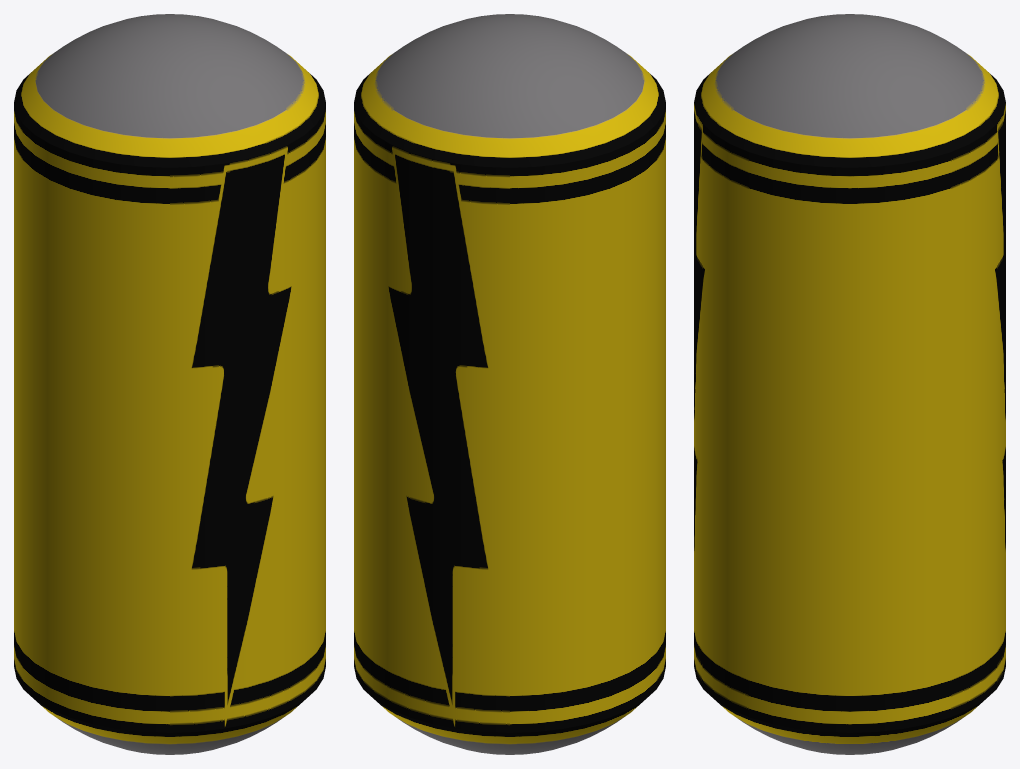
File: pila.obj
3 renders of one model, left to right at view 1: azimuth 30°, elevation 25°; view 2: azimuth 150°, elevation 25°; view 3: azimuth 270°, elevation 25°, orthographic.
Visible parts, largest first — view 1: Cisterna; view 2: Cisterna; view 3: Cisterna.
Boxes of the visible parts, bbox=[...] form: Cisterna: bbox=[14, 14, 325, 754]; Cisterna: bbox=[354, 14, 665, 754]; Cisterna: bbox=[694, 14, 1005, 754].
Size of the model in its own units: 0.4283 by 1.07 by 0.4283.
